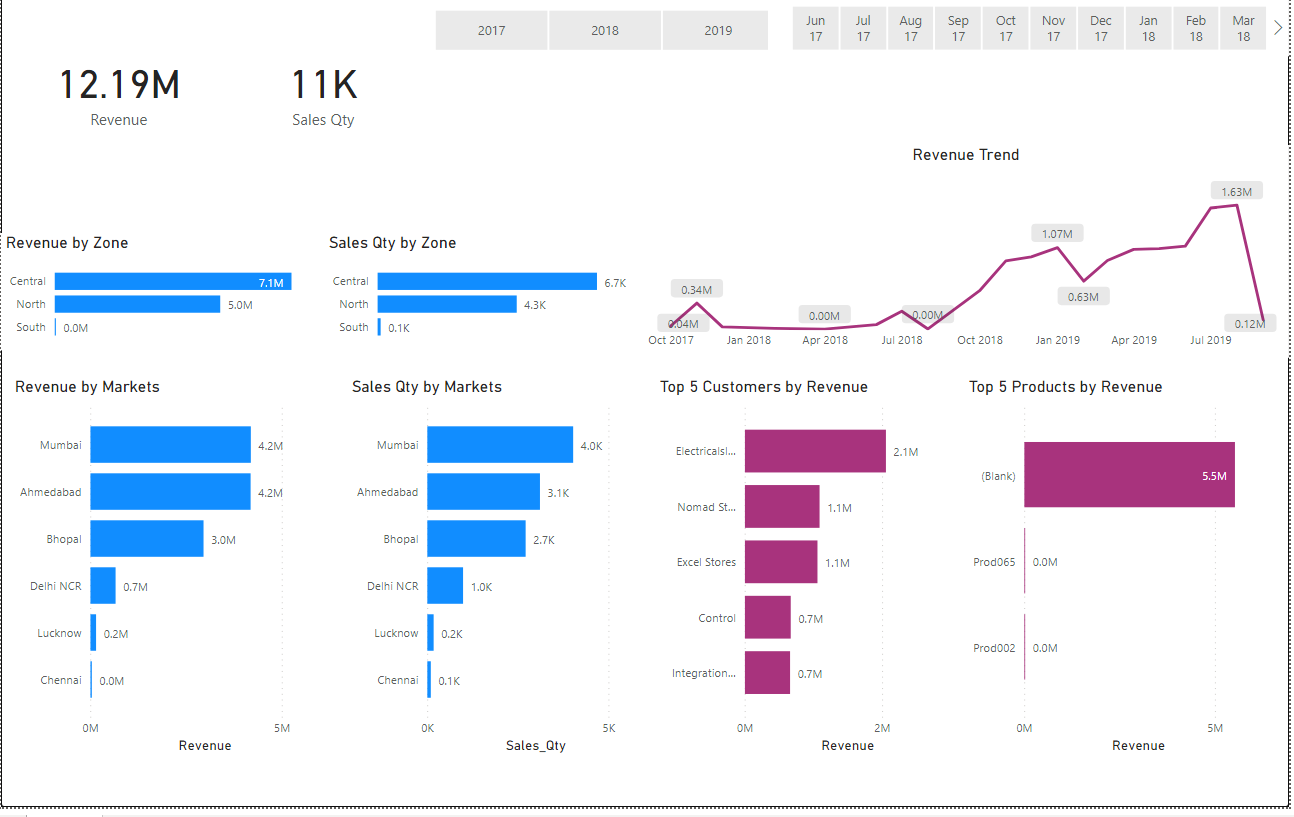

What the dashboard file says about the page in this screenshot:
{"tool":"powerbi","page":{"name":"Page 1","canvas":[1350,850],"ordinal":0},"visuals":[{"type":"card","fields":{"Values":["BaseMeasure.Revenue"]},"box":[32.5,39.8,182.4,116.3],"z":0},{"type":"card","title":"Sales Qty","fields":{"Values":["BaseMeasure.Sqles_Qty"]},"box":[247.3,39.8,181.3,116.3],"z":1000},{"type":"slicer","fields":{"Values":["date.year"]},"box":[429.7,8.4,404.6,54.5],"z":2000},{"type":"barChart","title":"Revenue by Zone","fields":{"Y":["BaseMeasure.Revenue"],"Category":["markets.zone"]},"box":[0,248.4,338.5,122.6],"z":3000},{"type":"barChart","title":"Sales Qty by Zone","fields":{"Y":["BaseMeasure.Sqles_Qty"],"Category":["markets.zone"]},"box":[338.5,248.4,334.3,122.6],"z":4000},{"type":"slicer","fields":{"Values":["date.cy_date"]},"box":[803.9,4.2,546.1,58.7],"z":5000},{"type":"barChart","title":"Revenue by Markets","fields":{"Y":["BaseMeasure.Revenue"],"Category":["markets.markets_name"]},"box":[9.4,399.3,338.5,399.3],"z":6000},{"type":"barChart","title":"Sales Qty by Markets","fields":{"Y":["BaseMeasure.Sqles_Qty"],"Category":["markets.markets_name"]},"box":[362.6,399.3,323.9,399.3],"z":7000},{"type":"barChart","title":"Top 5 Customers by Revenue","fields":{"Category":["customers.custmer_name"],"Y":["BaseMeasure.Revenue"]},"box":[685.5,399.3,323.9,399.3],"z":8000},{"type":"barChart","title":"Top 5 Products by Revenue","fields":{"Y":["BaseMeasure.Revenue"],"Category":["products.product_code"]},"box":[1009.3,399.3,316.5,399.3],"z":8001},{"type":"lineChart","title":"Revenue Trend","fields":{"Y":["BaseMeasure.Revenue"],"Category":["date.cy_date"]},"box":[672.9,156.2,677.1,223.2],"z":8002}]}

Visuals, with their boxes in screenshot pixels (x1, y1, x2, y2), scaled from the page's 1350x850 canvas onto the 1294x817 screenshot:
card - BaseMeasure.Revenue: (31,38,206,150)
"Sales Qty" card: (237,38,411,150)
slicer - date.year: (412,8,800,60)
"Revenue by Zone" barChart: (0,239,324,357)
"Sales Qty by Zone" barChart: (324,239,645,357)
slicer - date.cy_date: (771,4,1293,60)
"Revenue by Markets" barChart: (9,384,333,768)
"Sales Qty by Markets" barChart: (348,384,658,768)
"Top 5 Customers by Revenue" barChart: (657,384,968,768)
"Top 5 Products by Revenue" barChart: (967,384,1271,768)
"Revenue Trend" lineChart: (645,150,1293,365)
